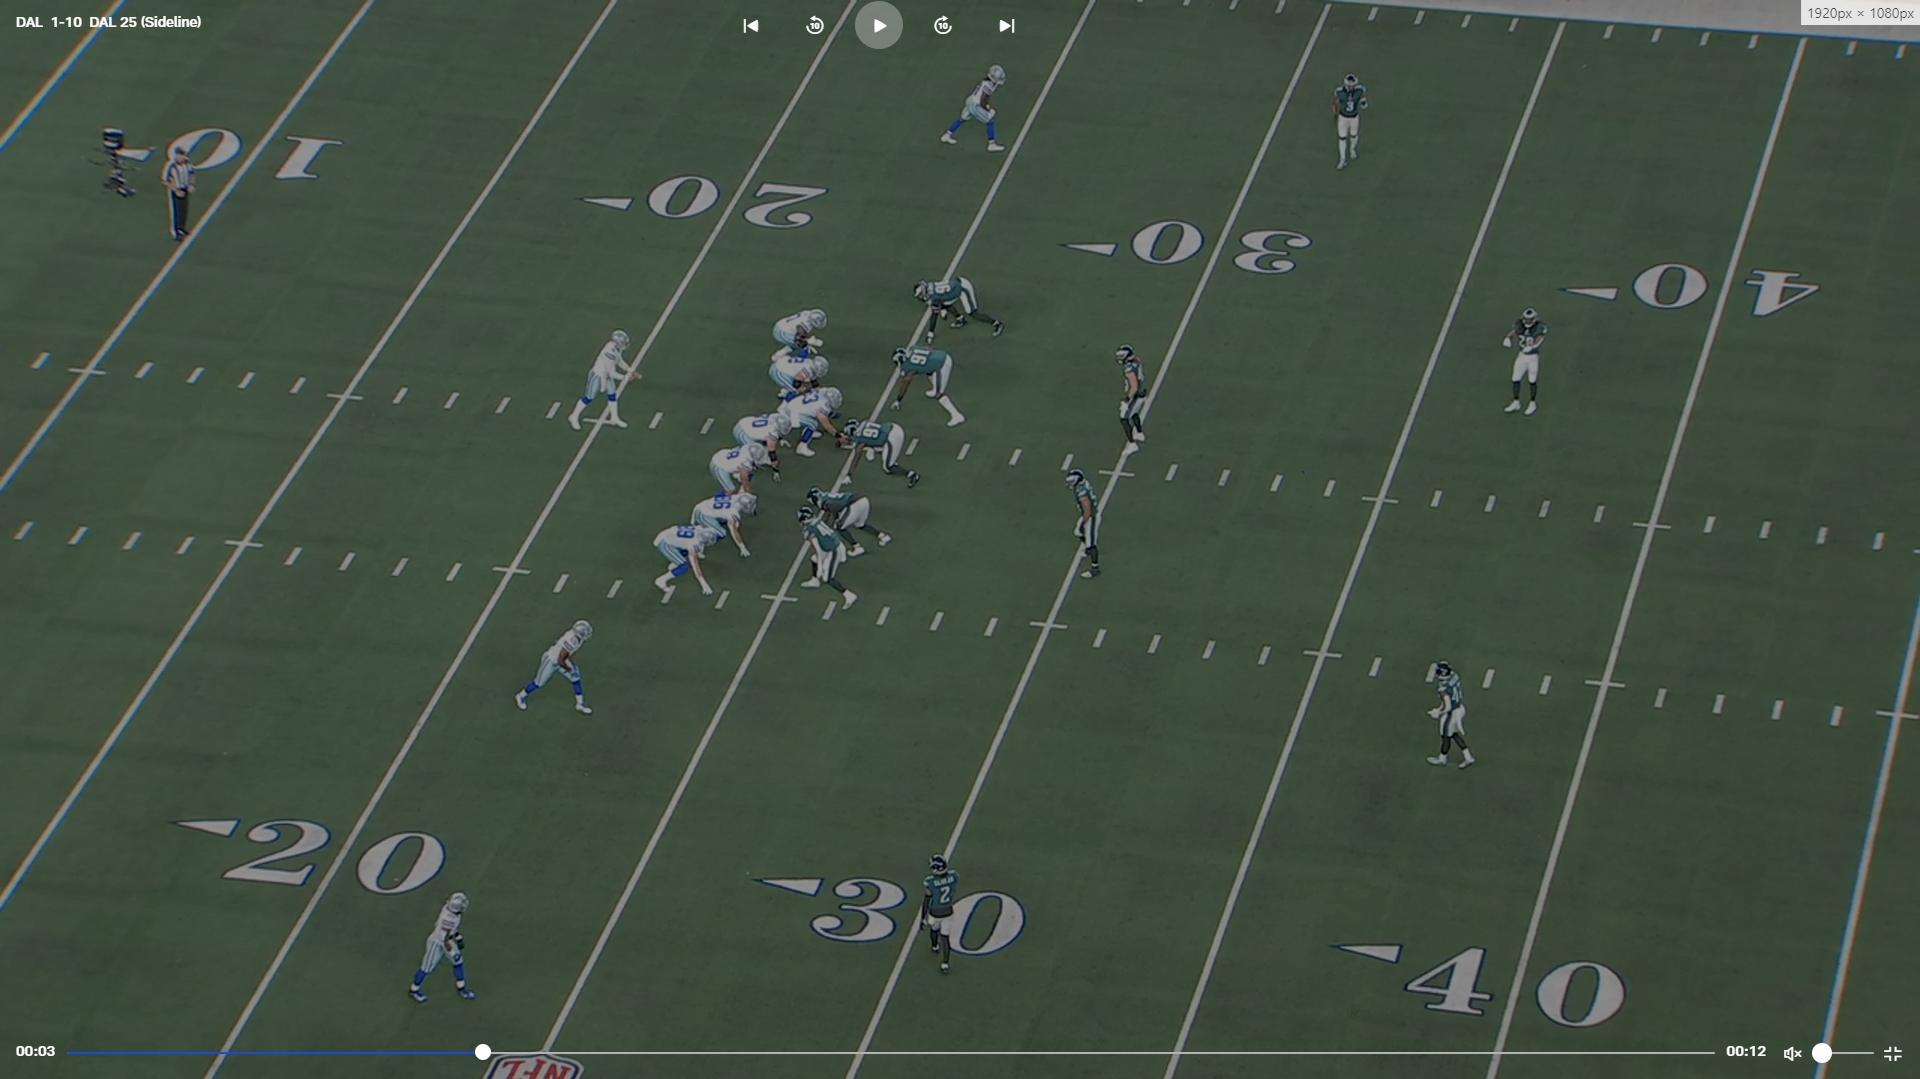player: (405, 888, 482, 1011), (511, 615, 602, 719), (571, 322, 643, 433), (886, 344, 971, 429), (915, 845, 970, 976), (799, 508, 863, 614), (940, 61, 1012, 154), (802, 487, 894, 559), (834, 419, 920, 494), (911, 274, 1006, 341), (1428, 656, 1481, 774), (647, 519, 722, 601), (1499, 305, 1548, 420), (1062, 461, 1106, 587), (784, 383, 853, 459), (1116, 342, 1157, 461), (730, 407, 795, 482), (1330, 68, 1375, 176), (691, 491, 760, 561), (707, 440, 773, 509), (773, 304, 836, 366), (776, 349, 840, 403)
ref: (163, 137, 206, 250)
